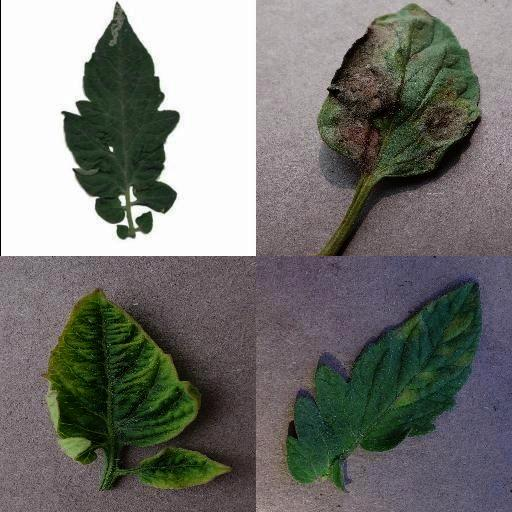Late Blight: (316, 2, 484, 178)
Leaf Miner: (62, 1, 184, 200)
Leaf Mold: (286, 278, 483, 486)
Yellow Leaf Curl Virus: (46, 287, 202, 467), (135, 447, 232, 489)
